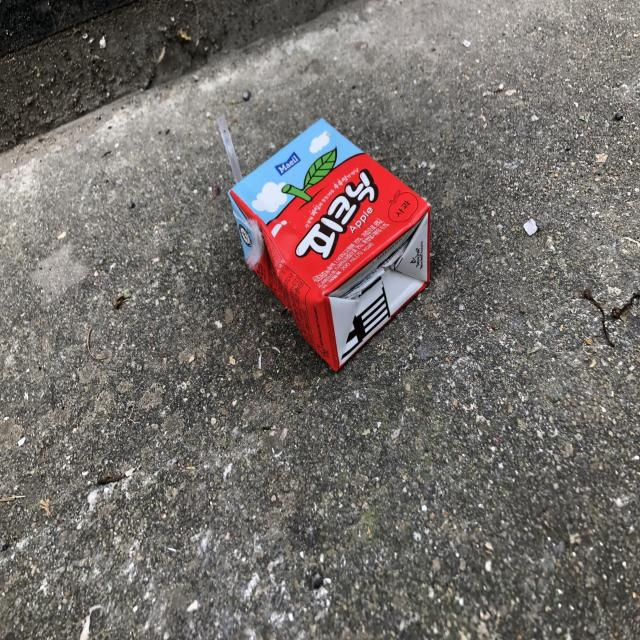paperpack: (229, 118, 431, 371)
